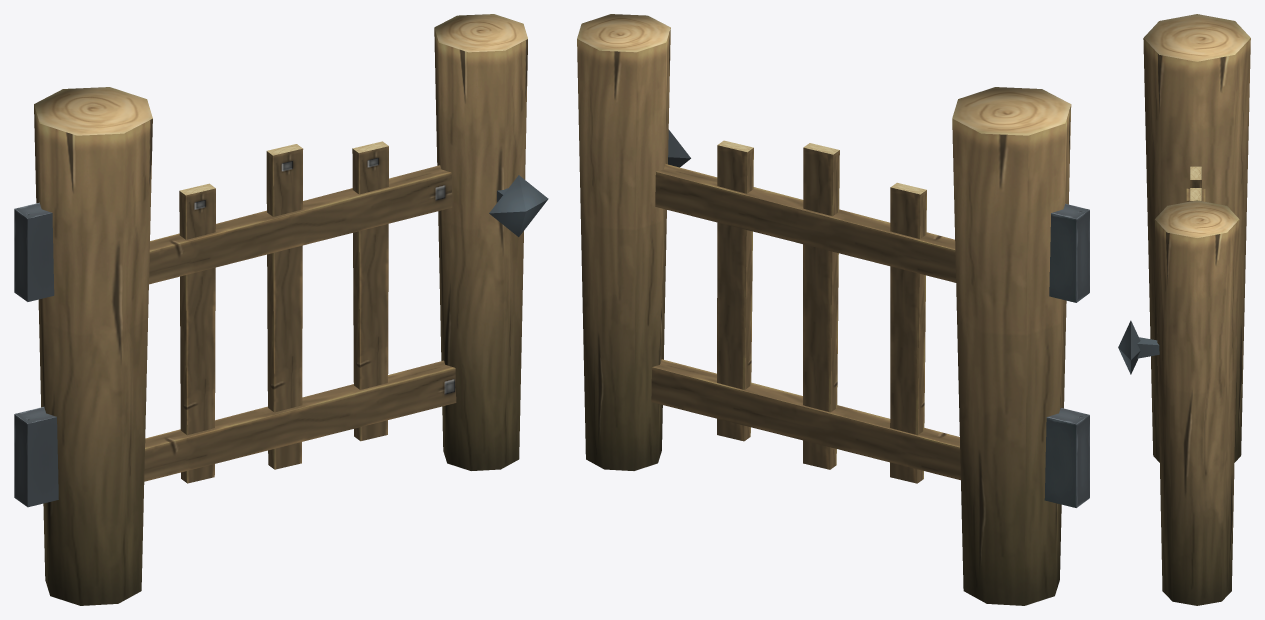
File: gates_10_right.fbx
3 views of the same model, side by side, from view 1: azimuth 30°, elevation 25°; view 2: azimuth 150°, elevation 25°; view 3: azimuth 270°, elevation 25° (orthographic). The views are drawn at different scales.
Visible parts, largest first — view 1: gates_10_right:Mesh; view 2: gates_10_right:Mesh; view 3: gates_10_right:Mesh.
Boxes of the visible parts, left/top/right/bottom form: gates_10_right:Mesh: left=14, top=14, right=548, bottom=605; gates_10_right:Mesh: left=577, top=14, right=1089, bottom=605; gates_10_right:Mesh: left=1118, top=14, right=1250, bottom=605.
Size of the model in its own units: 3.71 by 3.35 by 0.9628.
